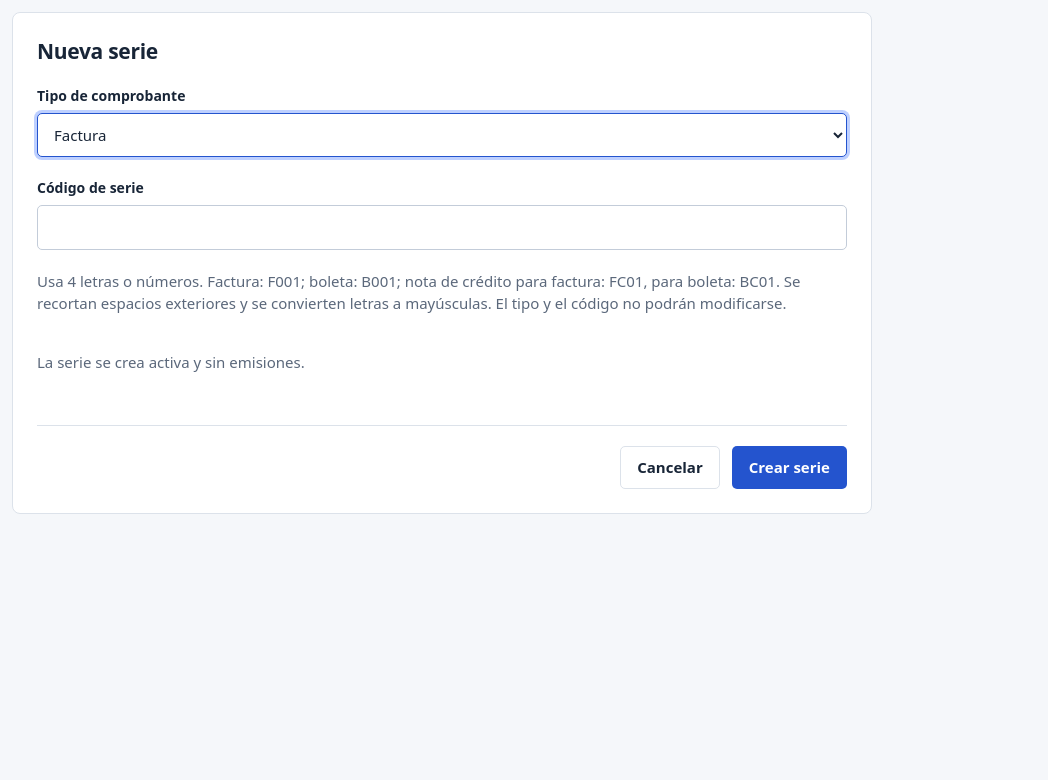
muestra Sin emisiones, crea, cancela y vuelve al listado
This screenshot has width=1048, height=780.
Earlier steps of the test are not shown.
Type "Temporal" into the field labelled "Código de serie" at [442, 228], box [37, 205, 847, 250]
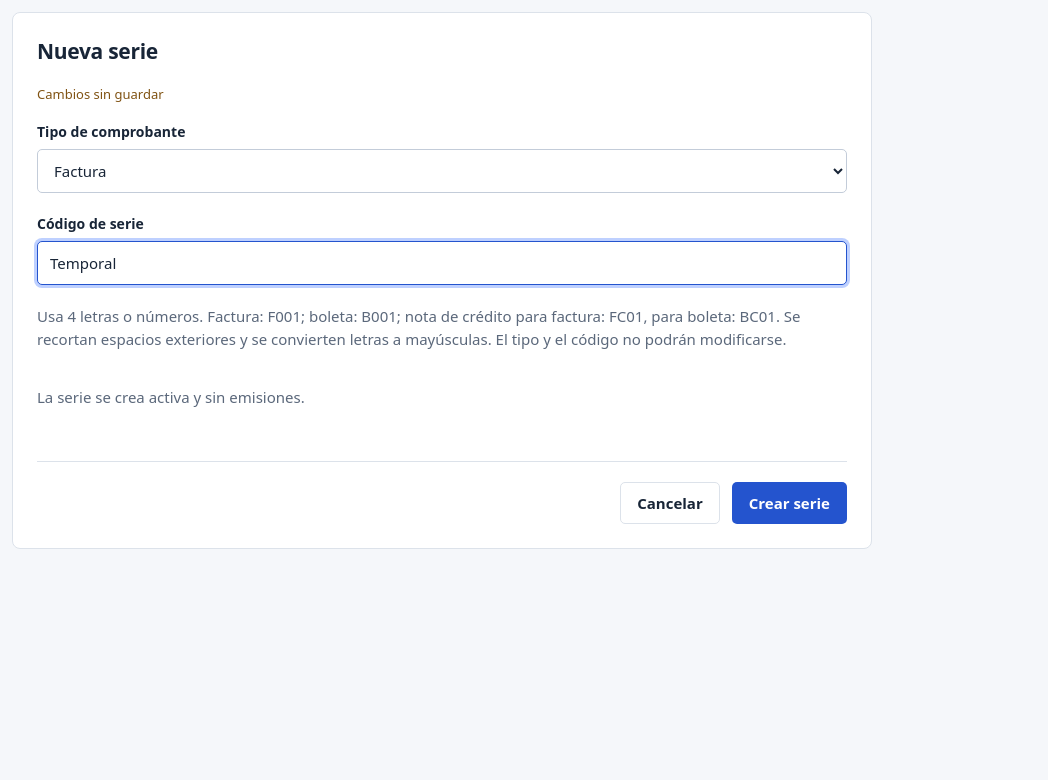
Click the button "Cancelar" at [670, 503], box [620, 482, 720, 524]
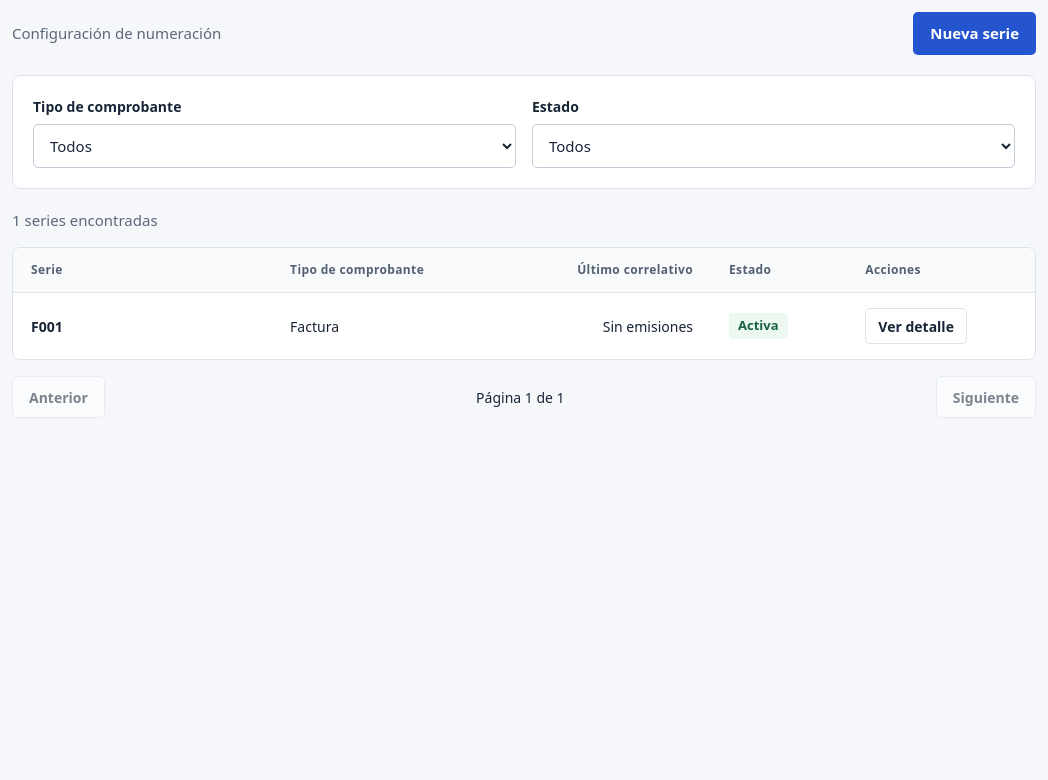
Click the button "Nueva serie" at [975, 33], box [913, 12, 1036, 54]
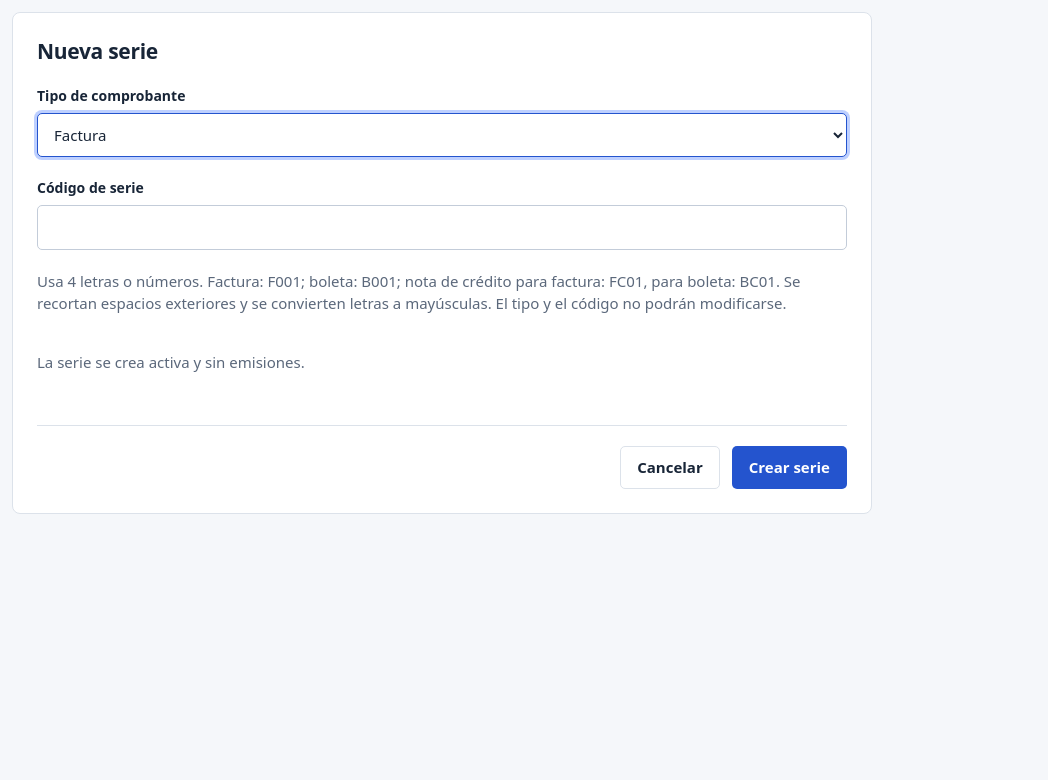
expect the field labelled "Código de serie" is empty: met
Type " fc01 " into the field labelled "Código de serie" at [442, 228], box [37, 205, 847, 250]
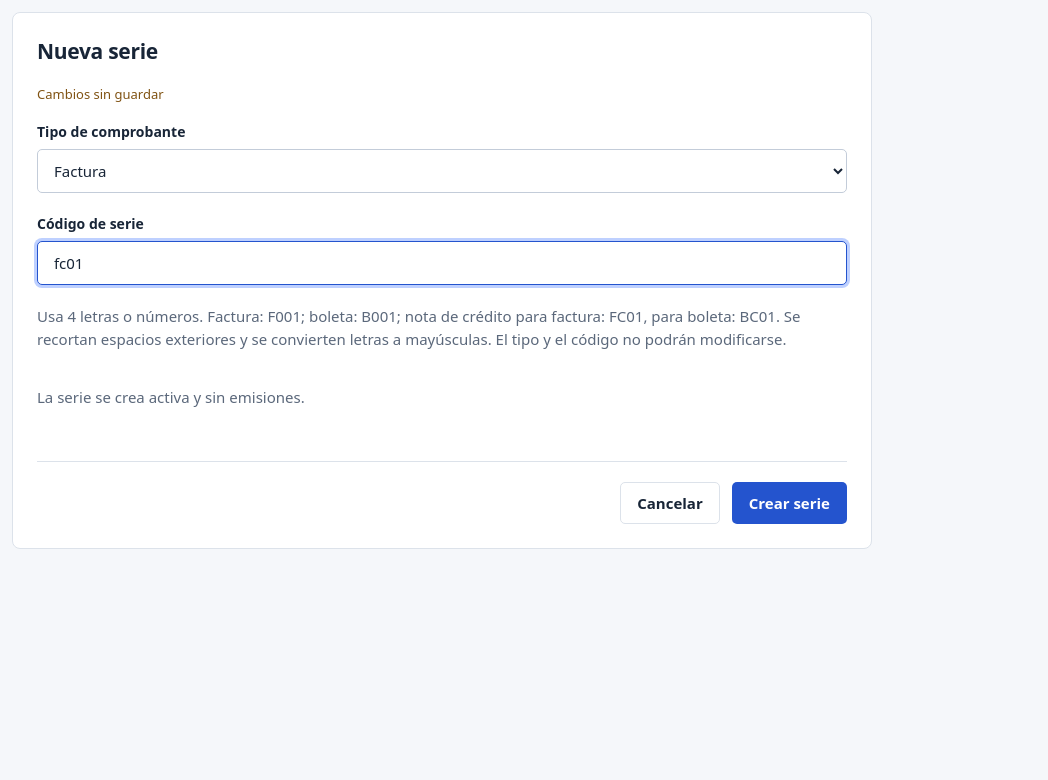
Select "Nota de crédito" in the dropdown labelled "Tipo de comprobante" at [442, 171], box [37, 149, 847, 193]
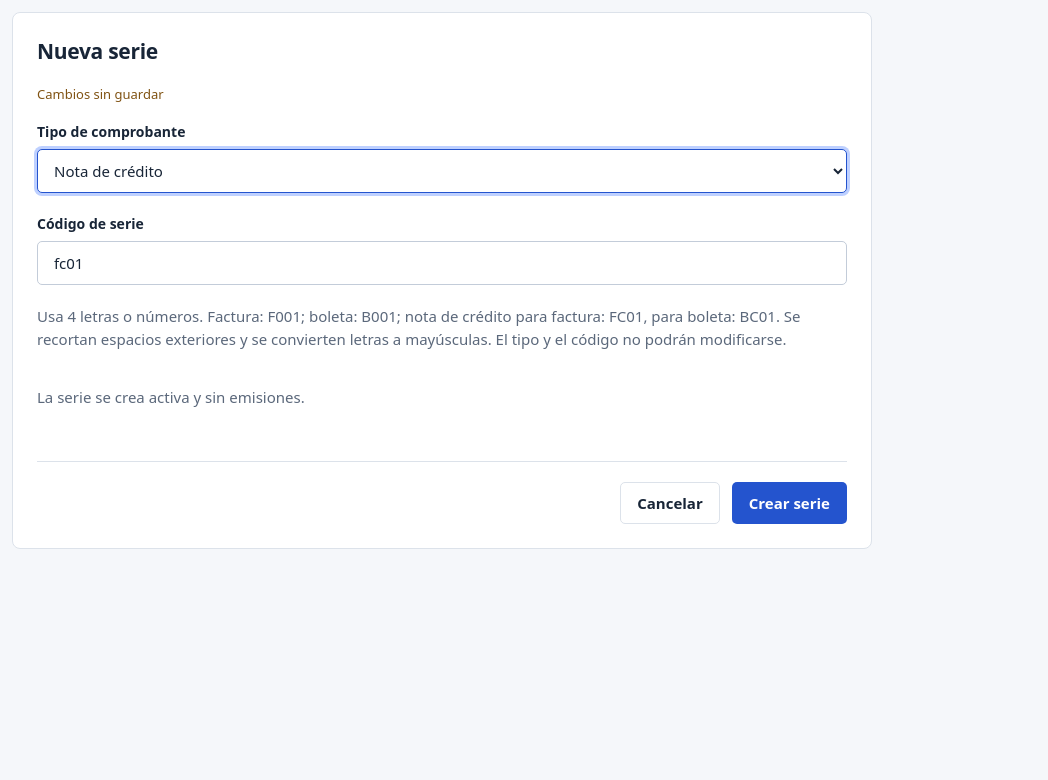
Click the button "Crear serie" at [789, 503], box [732, 482, 847, 524]
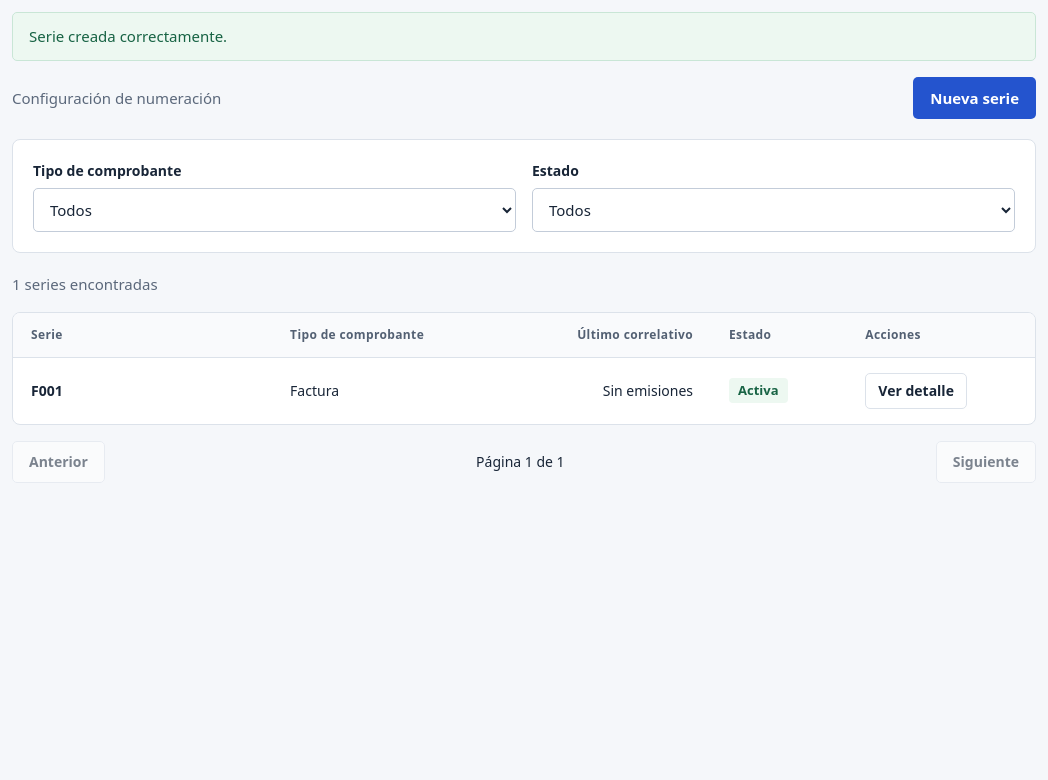
expect the text "Serie creada correctamente." is shown: met, box [12, 12, 1036, 60]
